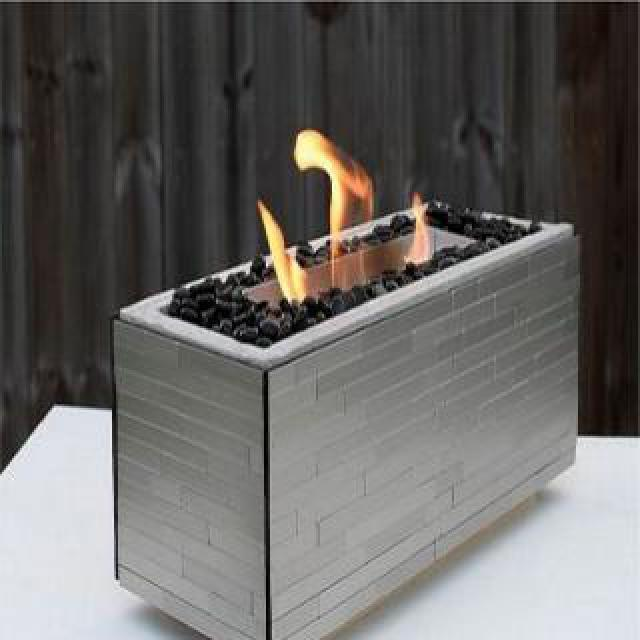Fire: (264, 98, 432, 318)
